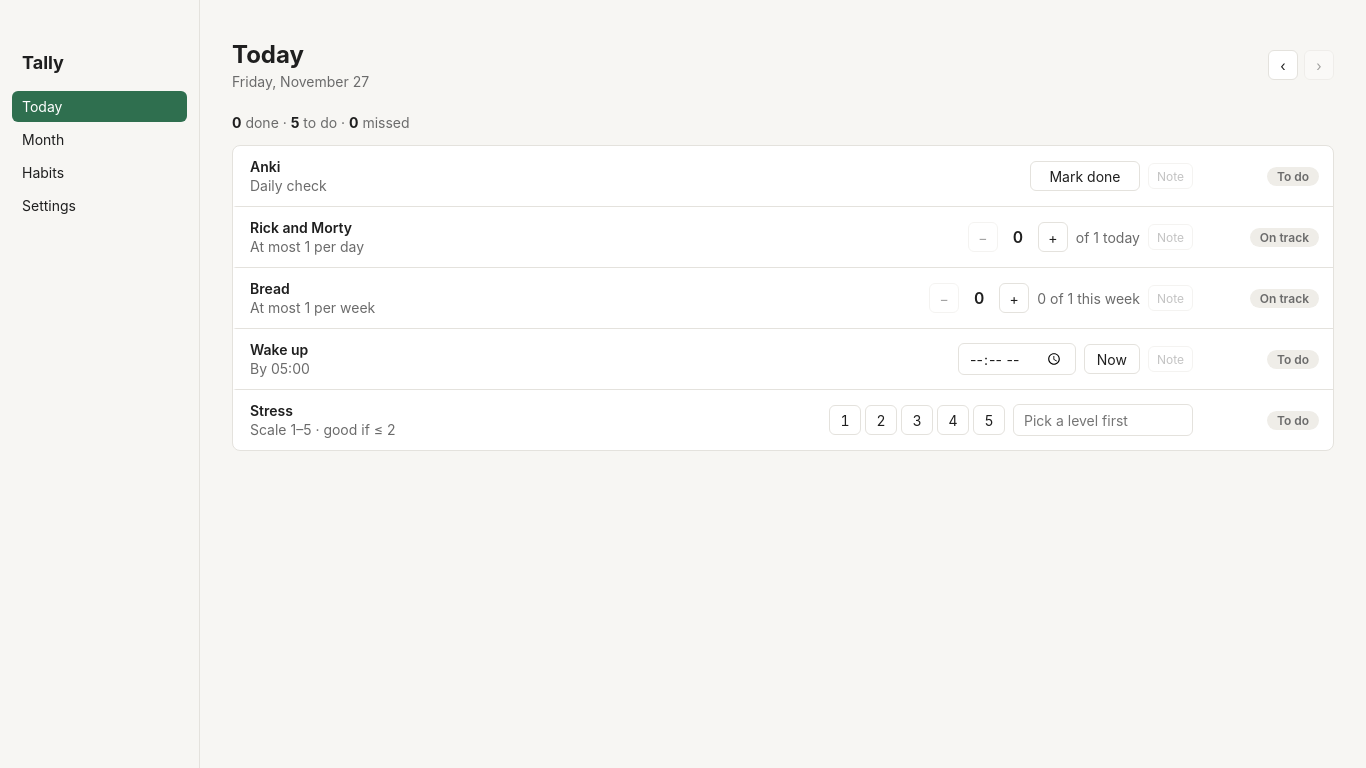
Test case: TodayPage › logs a scale level against its rule
Click the button named "Stress level 4" at point(953, 420), box [937, 405, 969, 435]
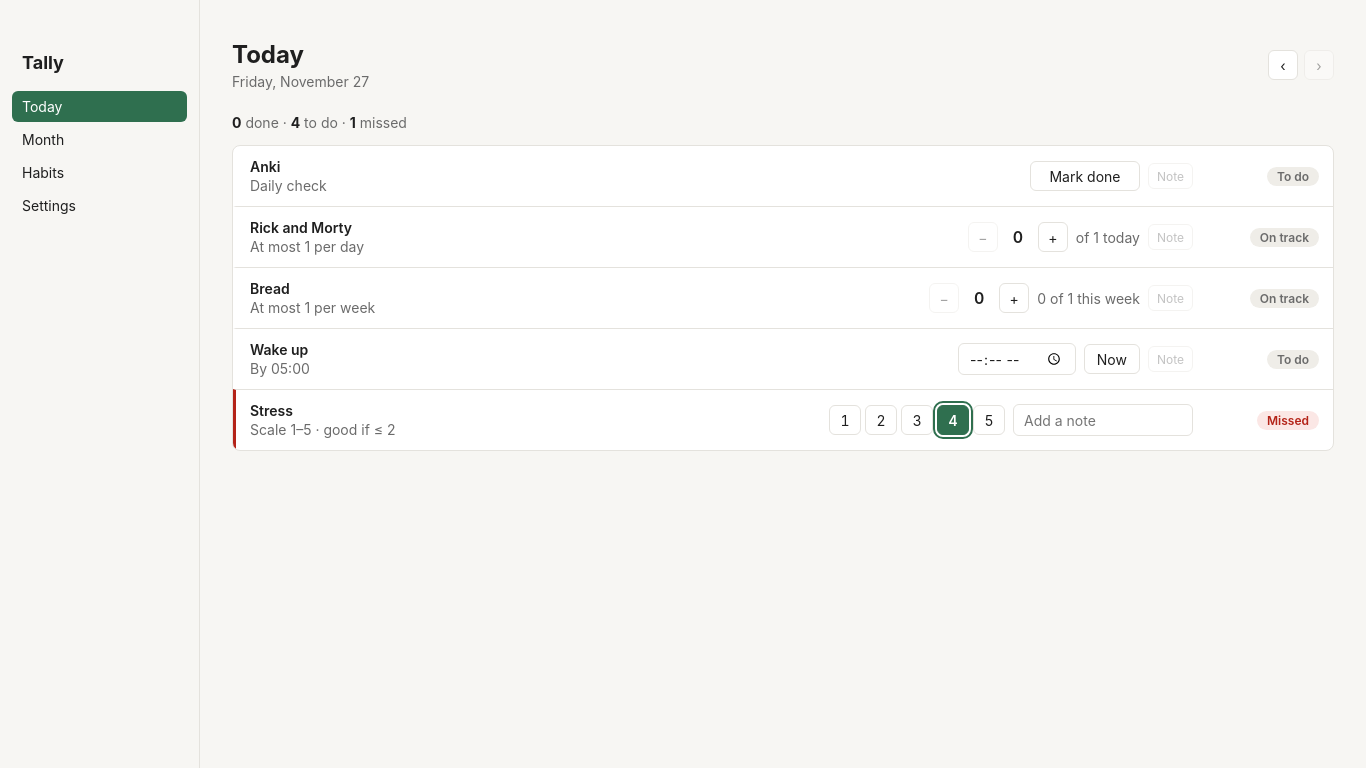
Now the text "Missed" is shown, box [1257, 410, 1319, 430]
